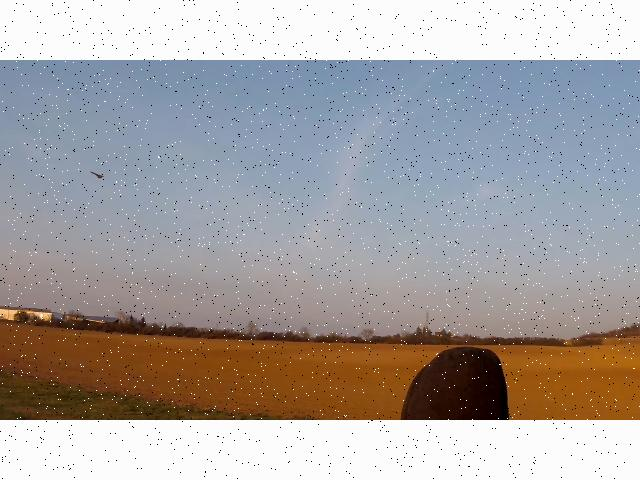Anti-Drone: (90, 172, 104, 178)
